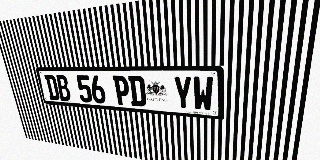5: (76, 75, 93, 103)
6: (89, 75, 107, 104)
B: (55, 75, 72, 101)
D: (128, 76, 147, 107), (44, 75, 60, 100)
P: (112, 75, 131, 106)
W: (193, 76, 213, 112)
Y: (173, 76, 193, 110)
